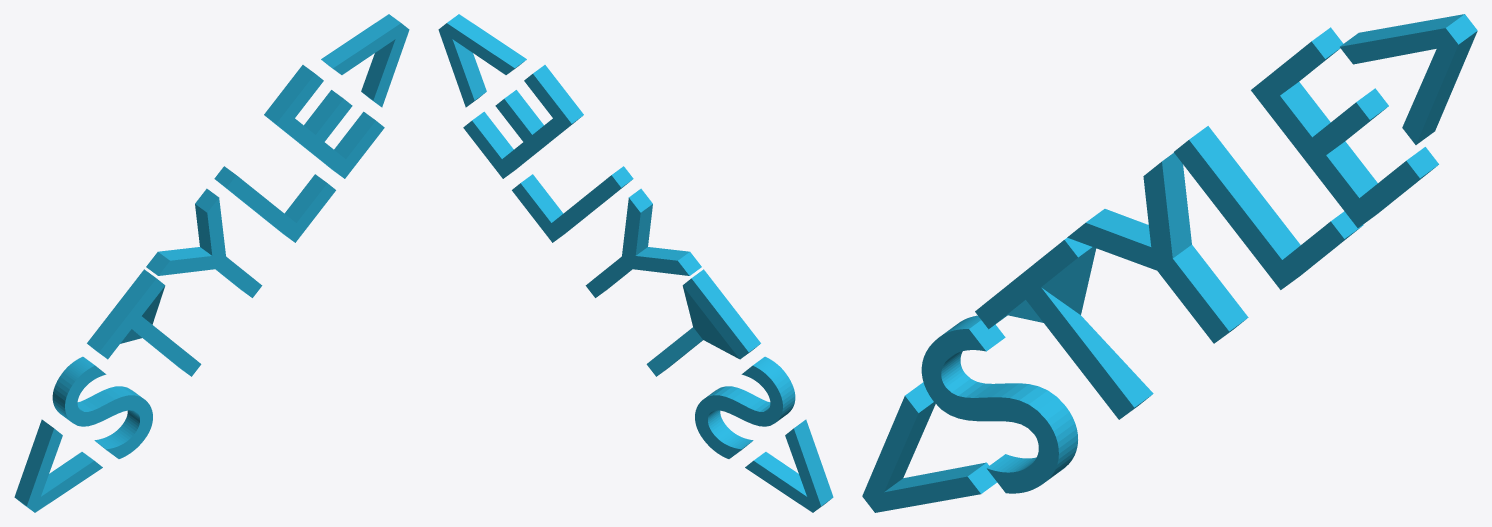
File: STYLEMODEL.glb
The picture shows the model from 3 angles, left to right: view 1: azimuth 30°, elevation 25°; view 2: azimuth 150°, elevation 25°; view 3: azimuth 330°, elevation 25°; orthographic projection. The views are drawn at different scales.
Parts seen in each view (by area): view 1: Text; view 2: Text; view 3: Text.
Boxes of the visible parts, x1,y1,x2,y2 form: Text: [14, 14, 409, 512]; Text: [438, 14, 833, 512]; Text: [862, 14, 1477, 512].
Bounding box in the file's own units: 2.68 × 2.68 × 0.1501.
